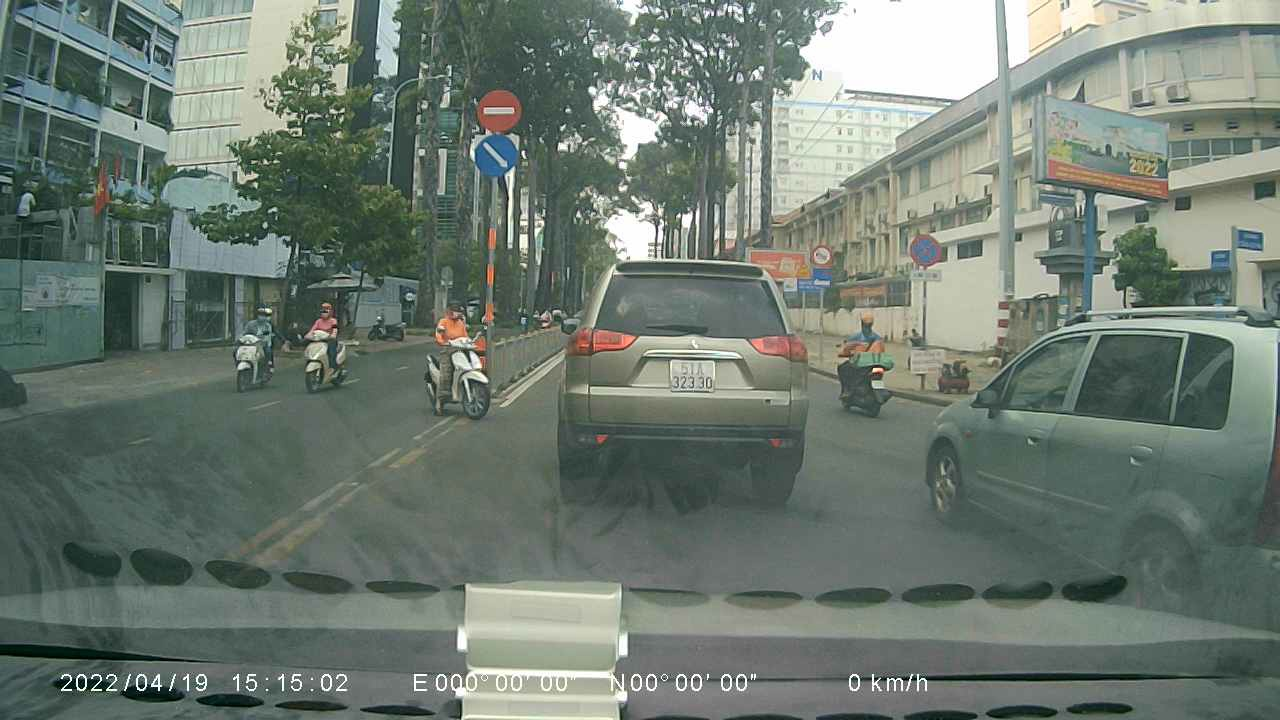Bien khac: (908, 230, 951, 269)
Cam di nguoc chieu: (477, 88, 523, 129)
Huong di phai re phai: (473, 133, 516, 174)
